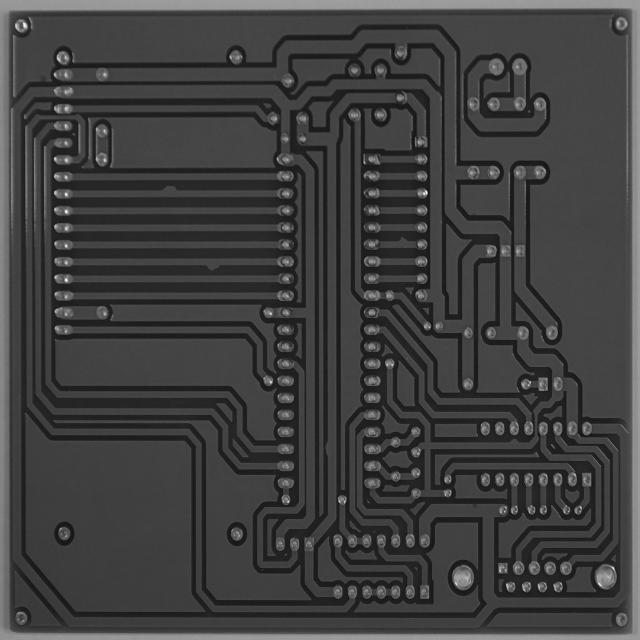spur: (155, 180, 183, 202), (199, 254, 225, 274), (321, 436, 335, 462), (393, 233, 411, 249), (507, 436, 523, 448)
